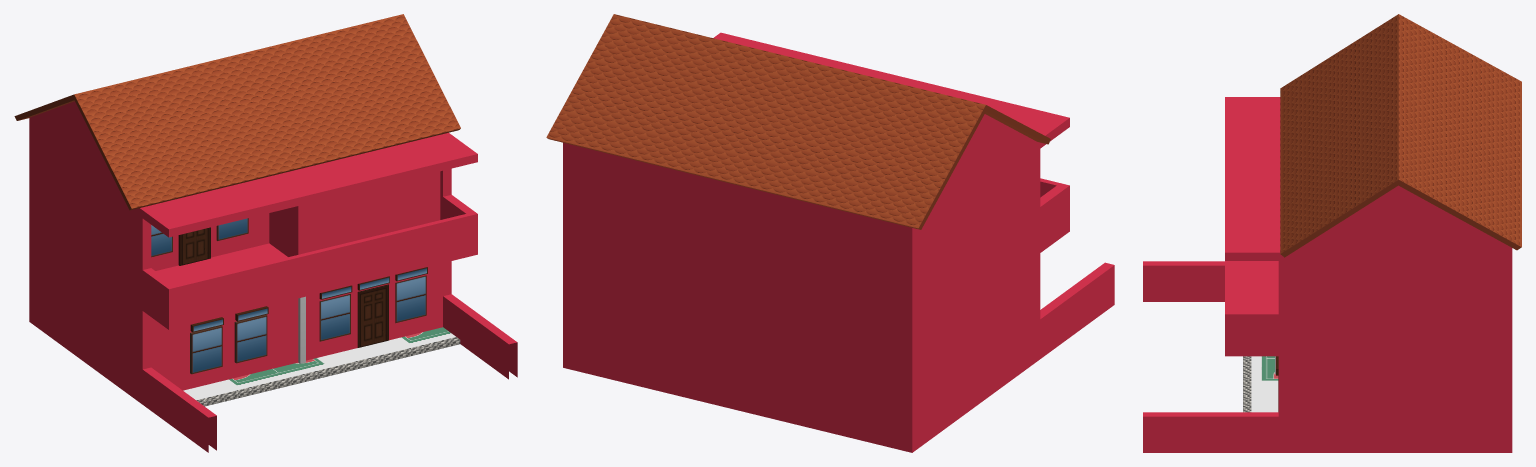
File: TetanggaBesar2.fbx
The picture shows the model from 3 angles, left to right: view 1: azimuth 30°, elevation 25°; view 2: azimuth 150°, elevation 25°; view 3: azimuth 270°, elevation 25°; orthographic projection. The views are drawn at different scales.
Parts seen in each view (by area): view 1: Body1NPCT2_LOD0; view 2: Body1NPCT2_LOD0; view 3: Body1NPCT2_LOD0.
Boxes of the visible parts, x1=… form: Body1NPCT2_LOD0: x1=14, y1=14, x2=517, y2=452; Body1NPCT2_LOD0: x1=546, y1=14, x2=1114, y2=452; Body1NPCT2_LOD0: x1=1143, y1=14, x2=1521, y2=452.
Size of what is drawn, in the model's own units: 1427 by 1118 by 1379.
